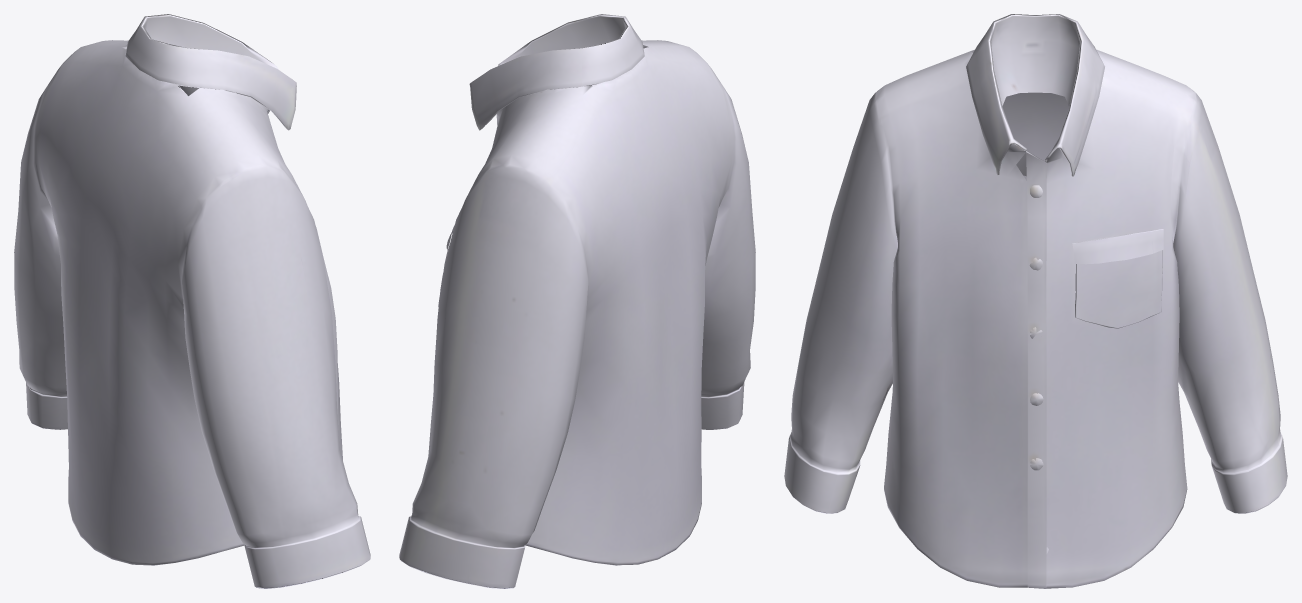
File: camisa_social_branca_manga_longa.glb
The picture shows the model from 3 angles, left to right: view 1: azimuth 30°, elevation 25°; view 2: azimuth 150°, elevation 25°; view 3: azimuth 270°, elevation 25°; orthographic projection. The views are drawn at different scales.
Visible parts, largest first — view 1: camisa_social_branca_manga_longa; view 2: camisa_social_branca_manga_longa; view 3: camisa_social_branca_manga_longa.
Part boxes in pixels (<box>): camisa_social_branca_manga_longa: <box>14,14,370,588</box>; camisa_social_branca_manga_longa: <box>399,14,755,588</box>; camisa_social_branca_manga_longa: <box>784,14,1287,588</box>.
Bounding box in the file's own units: 0.1655 × 0.3516 × 0.3232.
Materials: 1 (1 with a texture image).
